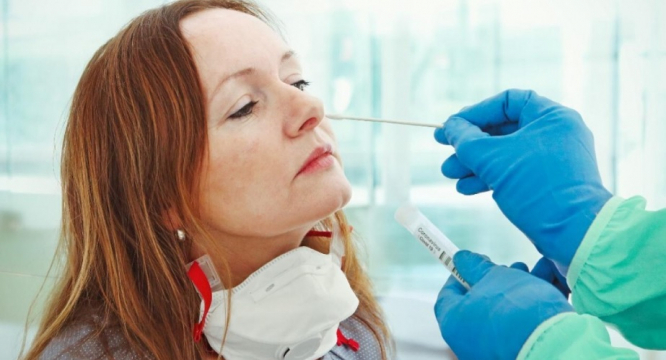Gloves: (430, 82, 615, 274), (434, 249, 574, 360)
mask_weared_incorrect: (187, 17, 367, 358)
